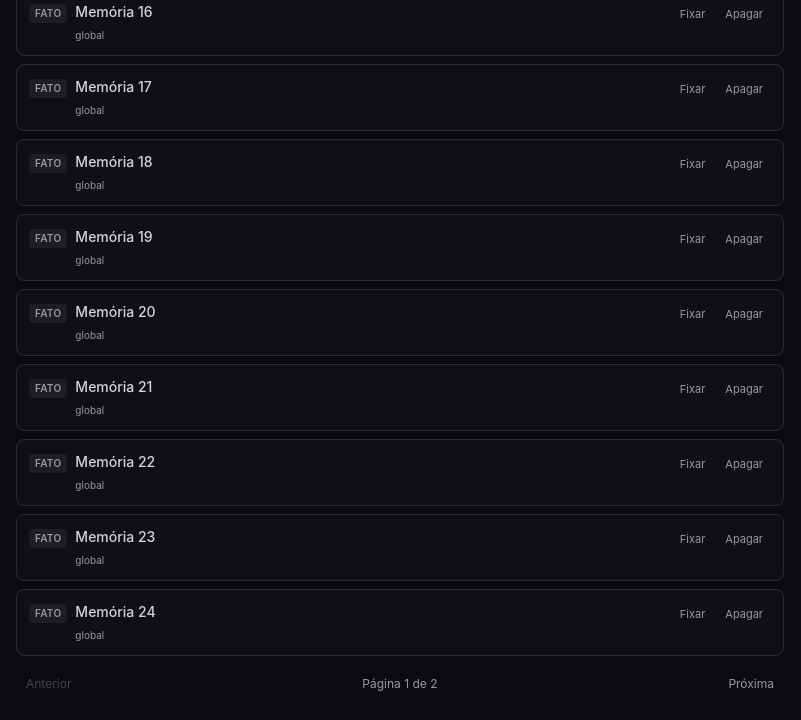
Scenario: MemoryView paging › goes back a page after deleting the only memory of the last page
This screenshot has width=801, height=720.
(page scrolled)
Click the button "Próxima": click(751, 684) [718, 672, 784, 696]
(page scrolled)
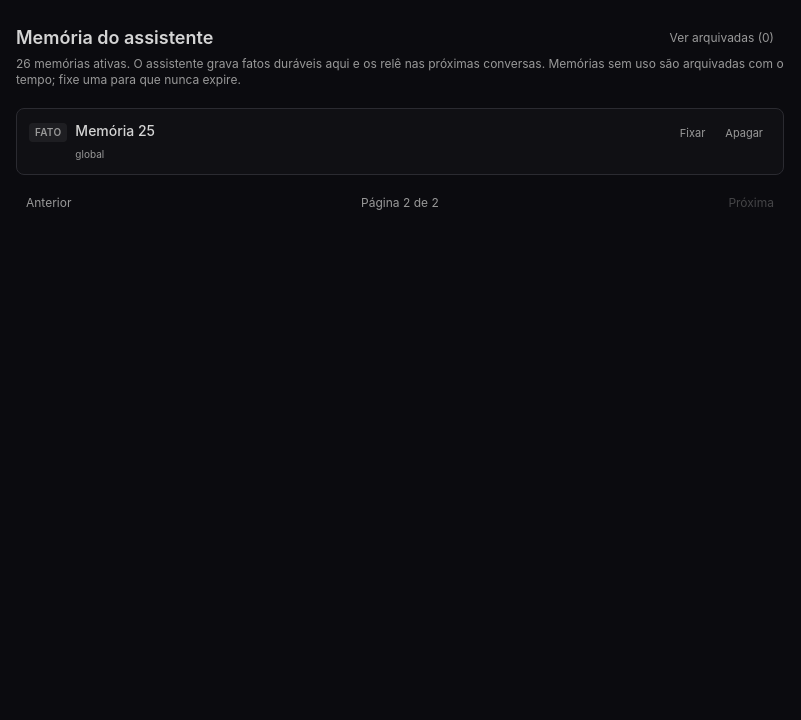
Expected: the text "Memória 25" is shown, [75, 121, 155, 141]
Click the button "Apagar": click(744, 133) [717, 121, 771, 146]
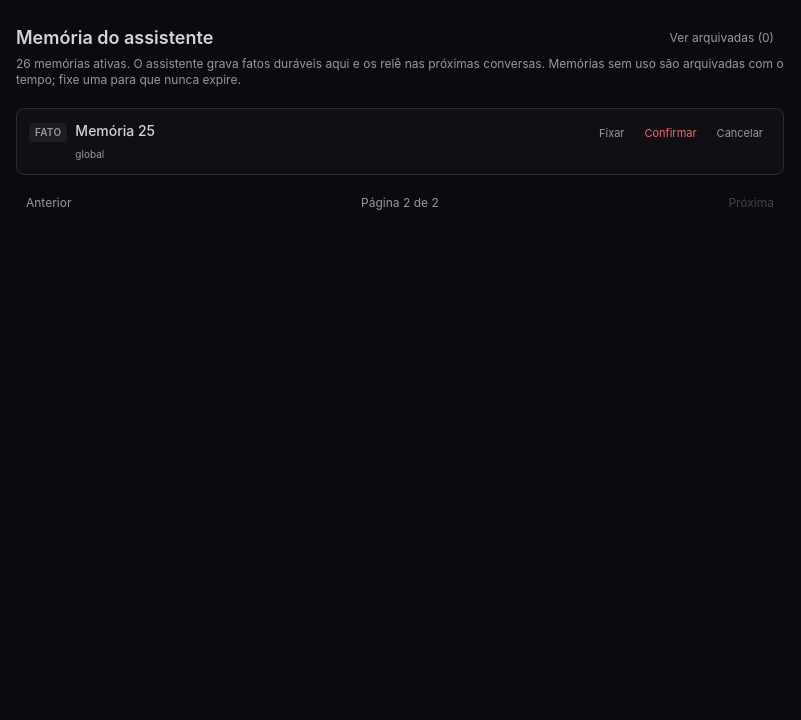
Click the button "Confirmar": click(671, 133) [636, 121, 705, 146]
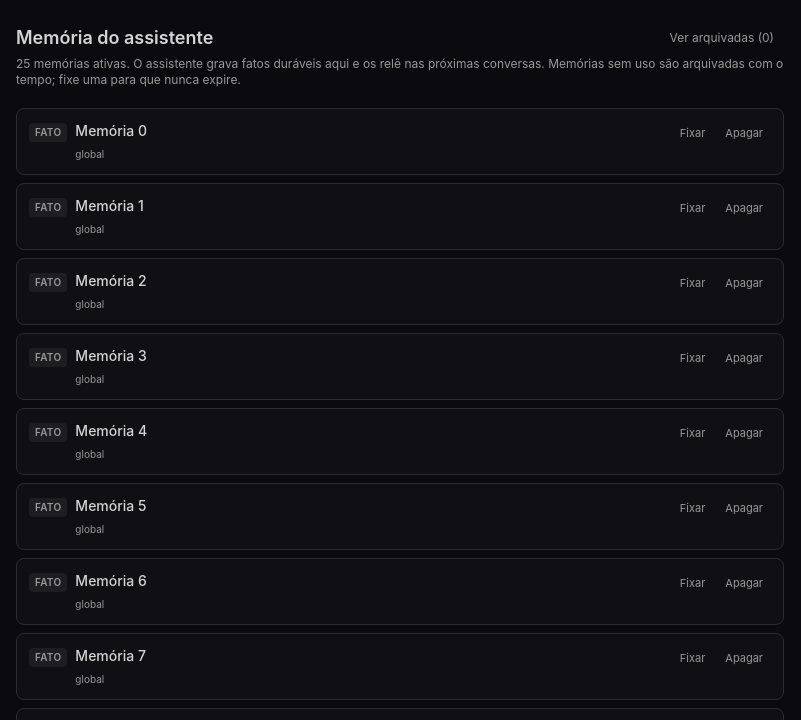
Expected: the text "Memória 0" is shown, [75, 121, 147, 141]
Expected: the text "Página" is gone
